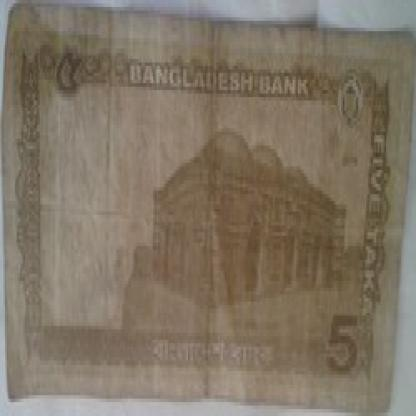Five Taka: (323, 302, 361, 406), (48, 38, 85, 118)
